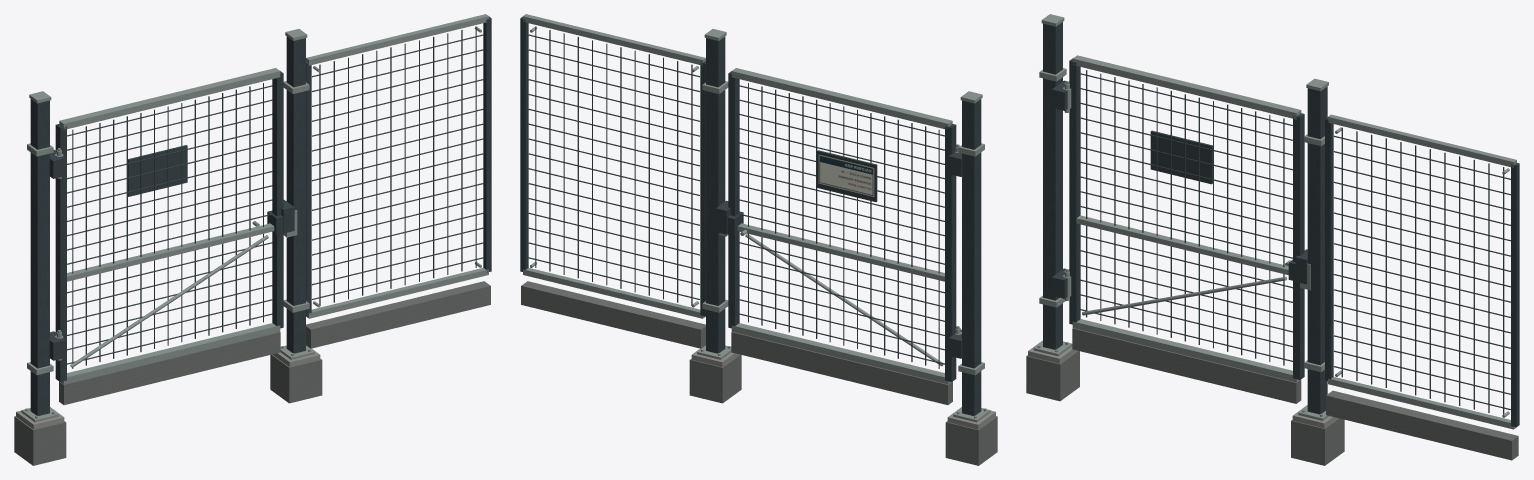
3 renders of one model, left to right at view 1: azimuth 30°, elevation 25°; view 2: azimuth 150°, elevation 25°; view 3: azimuth 330°, elevation 25°, orthographic. The views are drawn at different scales.
Parts seen in each view (by area): view 1: VIS_LEAF_WELDED_WIRES_MESH_DARK, VIS_GATE_HINGE_POST_STEEL_SHS_STEEL_GRAPHITE, VIS_GATE_STRIKER_POST_STEEL_SHS_STEEL_GRAPHITE, VIS_LEAF_FRAME_STEEL_GRAPHITE, VIS_GATE_FIXED_INFILL_HORIZONTAL_WIRES_MESH_DARK, VIS_GATE_FIXED_INFILL_VERTICAL_WIRES_MESH_DARK, VIS_LEAF_FRAME_STEEL_ZINC, VIS_LEAF_KICKPLATE_CONCRETE_DARK, VIS_GATE_FIXED_INFILL_KICKPLATE_CONCRETE_DARK, VIS_GATE_FIXED_INFILL_VERTICAL_RAILS_STEEL_GRAPHITE, VIS_GATE_FIXED_INFILL_HORIZONTAL_RAILS_STEEL_ZINC, VIS_SIGN_RECESSED_BACKPLATE_STEEL_GRAPHITE (+5 smaller); view 2: VIS_LEAF_WELDED_WIRES_MESH_DARK, VIS_GATE_HINGE_POST_STEEL_SHS_STEEL_GRAPHITE, VIS_GATE_STRIKER_POST_STEEL_SHS_STEEL_GRAPHITE, VIS_LEAF_FRAME_STEEL_GRAPHITE, VIS_GATE_FIXED_INFILL_HORIZONTAL_WIRES_MESH_DARK, VIS_GATE_FIXED_INFILL_VERTICAL_WIRES_MESH_DARK, VIS_LEAF_FRAME_STEEL_ZINC, VIS_LEAF_KICKPLATE_CONCRETE_DARK, VIS_GATE_FIXED_INFILL_KICKPLATE_CONCRETE_DARK, VIS_GATE_FIXED_INFILL_VERTICAL_RAILS_STEEL_GRAPHITE, VIS_GATE_FIXED_INFILL_HORIZONTAL_RAILS_STEEL_ZINC, VIS_GATE_HINGE_POST_CONCRETE_FOOTING_CONCRETE_DARK (+6 smaller); view 3: VIS_LEAF_WELDED_WIRES_MESH_DARK, VIS_GATE_FIXED_INFILL_VERTICAL_WIRES_MESH_DARK, VIS_LEAF_FRAME_STEEL_GRAPHITE, VIS_GATE_HINGE_POST_STEEL_SHS_STEEL_GRAPHITE, VIS_GATE_STRIKER_POST_STEEL_SHS_STEEL_GRAPHITE, VIS_GATE_FIXED_INFILL_HORIZONTAL_WIRES_MESH_DARK, VIS_GATE_FIXED_INFILL_KICKPLATE_CONCRETE_DARK, VIS_LEAF_FRAME_STEEL_ZINC, VIS_LEAF_KICKPLATE_CONCRETE_DARK, VIS_GATE_FIXED_INFILL_VERTICAL_RAILS_STEEL_GRAPHITE, VIS_GATE_FIXED_INFILL_HORIZONTAL_RAILS_STEEL_ZINC, VIS_SIGN_RECESSED_BACKPLATE_STEEL_GRAPHITE (+5 smaller).
Part boxes in pixels (x1,y1,x2,y2): VIS_LEAF_WELDED_WIRES_MESH_DARK: (67,83,272,368); VIS_GATE_HINGE_POST_STEEL_SHS_STEEL_GRAPHITE: (30,99,49,415); VIS_GATE_STRIKER_POST_STEEL_SHS_STEEL_GRAPHITE: (286,36,305,353); VIS_LEAF_FRAME_STEEL_GRAPHITE: (55,71,283,381); VIS_GATE_FIXED_INFILL_HORIZONTAL_WIRES_MESH_DARK: (312,34,483,299); VIS_GATE_FIXED_INFILL_VERTICAL_WIRES_MESH_DARK: (319,26,476,305); VIS_LEAF_FRAME_STEEL_ZINC: (59,68,280,384); VIS_LEAF_KICKPLATE_CONCRETE_DARK: (59,331,280,404); VIS_GATE_FIXED_INFILL_KICKPLATE_CONCRETE_DARK: (306,281,490,348); VIS_GATE_FIXED_INFILL_VERTICAL_RAILS_STEEL_GRAPHITE: (306,16,491,316); VIS_GATE_FIXED_INFILL_HORIZONTAL_RAILS_STEEL_ZINC: (306,14,488,318); VIS_SIGN_RECESSED_BACKPLATE_STEEL_GRAPHITE: (128,145,187,196); VIS_LEAF_WELDED_WIRES_MESH_DARK: (739,83,944,368); VIS_GATE_HINGE_POST_STEEL_SHS_STEEL_GRAPHITE: (962,99,981,415); VIS_GATE_STRIKER_POST_STEEL_SHS_STEEL_GRAPHITE: (706,36,725,353); VIS_LEAF_FRAME_STEEL_GRAPHITE: (728,71,956,381); VIS_GATE_FIXED_INFILL_HORIZONTAL_WIRES_MESH_DARK: (528,34,699,299); VIS_GATE_FIXED_INFILL_VERTICAL_WIRES_MESH_DARK: (535,26,692,305); VIS_LEAF_FRAME_STEEL_ZINC: (731,68,952,384); VIS_LEAF_KICKPLATE_CONCRETE_DARK: (731,331,952,404); VIS_GATE_FIXED_INFILL_KICKPLATE_CONCRETE_DARK: (521,281,705,348); VIS_GATE_FIXED_INFILL_VERTICAL_RAILS_STEEL_GRAPHITE: (520,16,705,316); VIS_GATE_FIXED_INFILL_HORIZONTAL_RAILS_STEEL_ZINC: (523,14,705,318); VIS_GATE_HINGE_POST_CONCRETE_FOOTING_CONCRETE_DARK: (945,416,997,465); VIS_LEAF_WELDED_WIRES_MESH_DARK: (1080,70,1292,365); VIS_GATE_FIXED_INFILL_VERTICAL_WIRES_MESH_DARK: (1341,127,1504,414); VIS_LEAF_FRAME_STEEL_GRAPHITE: (1069,58,1304,379); VIS_GATE_HINGE_POST_STEEL_SHS_STEEL_GRAPHITE: (1043,22,1062,349); VIS_GATE_STRIKER_POST_STEEL_SHS_STEEL_GRAPHITE: (1307,86,1327,414); VIS_GATE_FIXED_INFILL_HORIZONTAL_WIRES_MESH_DARK: (1333,135,1510,409); VIS_GATE_FIXED_INFILL_KICKPLATE_CONCRETE_DARK: (1326,390,1518,460); VIS_LEAF_FRAME_STEEL_ZINC: (1072,55,1301,382); VIS_LEAF_KICKPLATE_CONCRETE_DARK: (1072,328,1301,403); VIS_GATE_FIXED_INFILL_VERTICAL_RAILS_STEEL_GRAPHITE: (1325,117,1519,427); VIS_GATE_FIXED_INFILL_HORIZONTAL_RAILS_STEEL_ZINC: (1328,114,1516,429); VIS_SIGN_RECESSED_BACKPLATE_STEEL_GRAPHITE: (1150,130,1212,184).
Bounding box in the file's own units: 4.11 × 3.02 × 0.29.
Materials: 6 (6 with a texture image).
